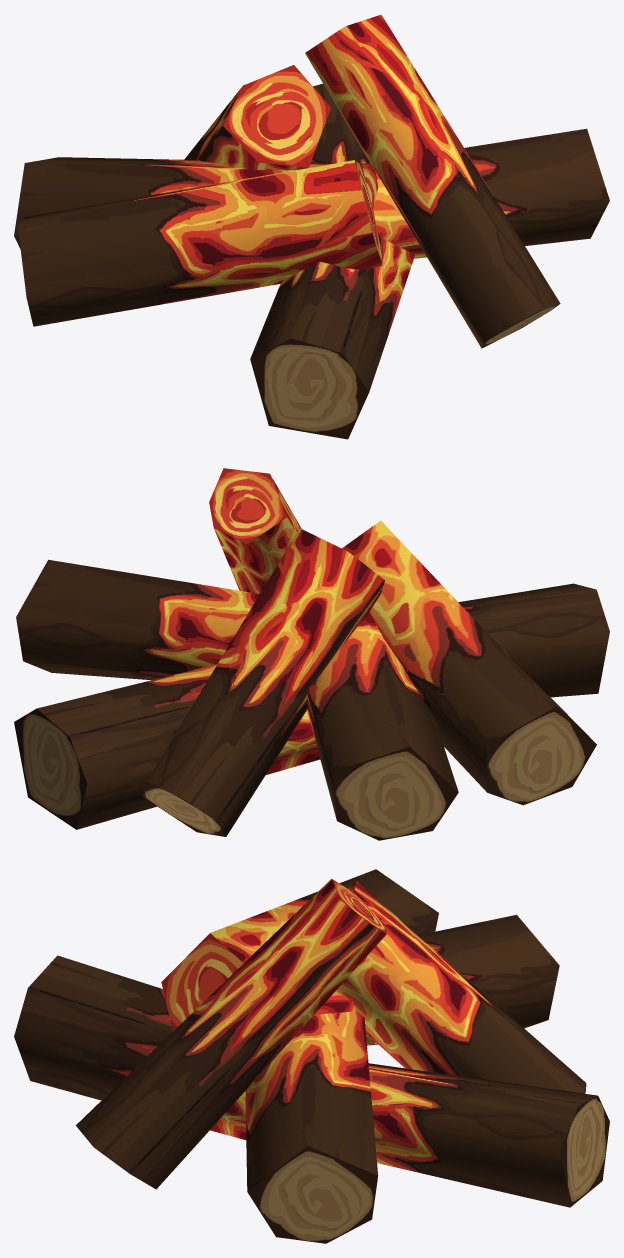
The model's file is SM_PROP_campfire_dungeon_02.fbx.
3 renders of one model, top to bottom at view 1: azimuth 30°, elevation 25°; view 2: azimuth 150°, elevation 25°; view 3: azimuth 270°, elevation 25°, orthographic.
Parts seen in each view (by area): view 1: SM_PROP_campfire_dungeon_02; view 2: SM_PROP_campfire_dungeon_02; view 3: SM_PROP_campfire_dungeon_02.
Part boxes in pixels (<box>): SM_PROP_campfire_dungeon_02: <box>14,14,609,439</box>; SM_PROP_campfire_dungeon_02: <box>14,468,609,840</box>; SM_PROP_campfire_dungeon_02: <box>14,869,609,1243</box>.
Size of the model in its own units: 55.51 by 27.54 by 51.05.
